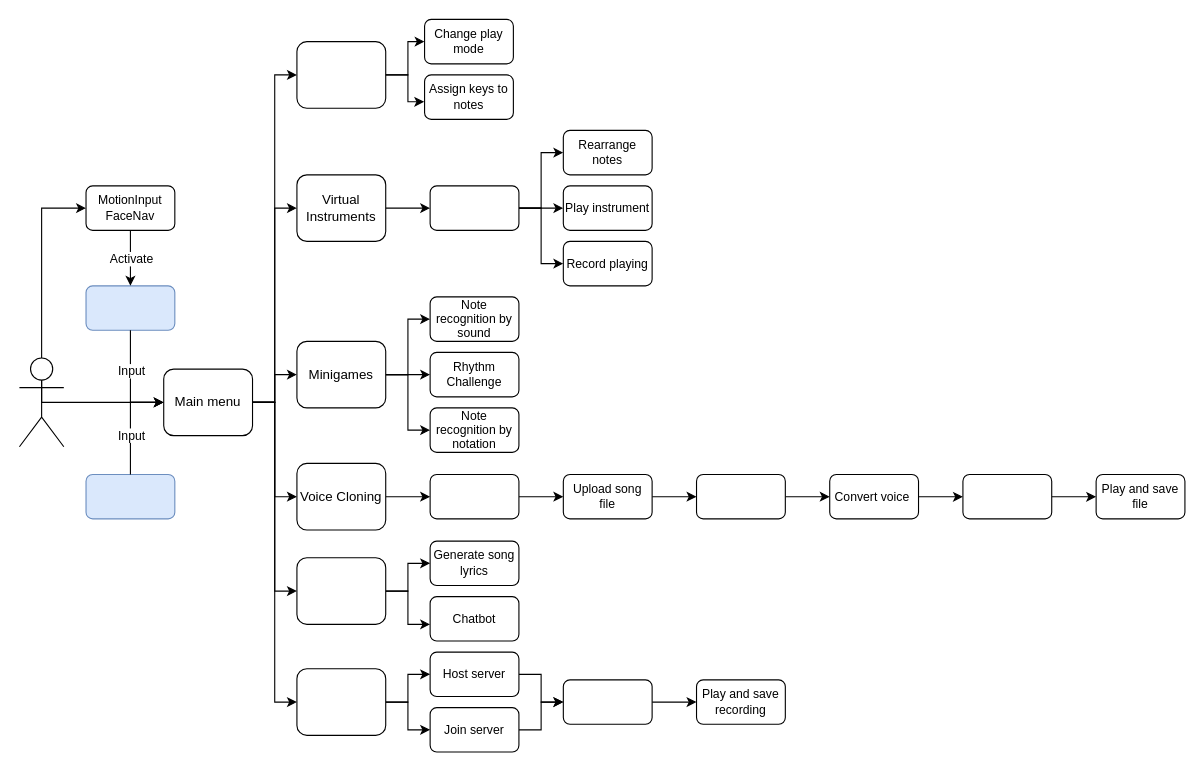
Image size: 1204x771. Some labels were removed from this diagram. Each missing label, with the centre of its shape:
AI Teacher: point 341,590
Facial navigation: point 130,307
Merge voice with music: point 1007,496
Mouse and keyboard: point 130,496
Multiplayer: point 341,701
Record and play instruments: point 607,701
Select instrument: point 474,207
Select voice model: point 474,496
Separate music and voice: point 740,496
Settings: point 341,74
User: point 41,402
